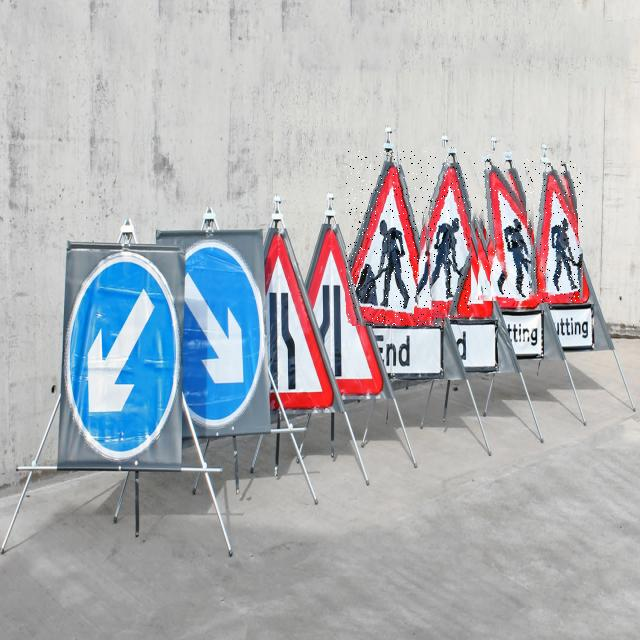roadwork: (346, 151, 446, 326), (468, 150, 535, 301), (418, 147, 471, 318), (525, 160, 583, 303)
